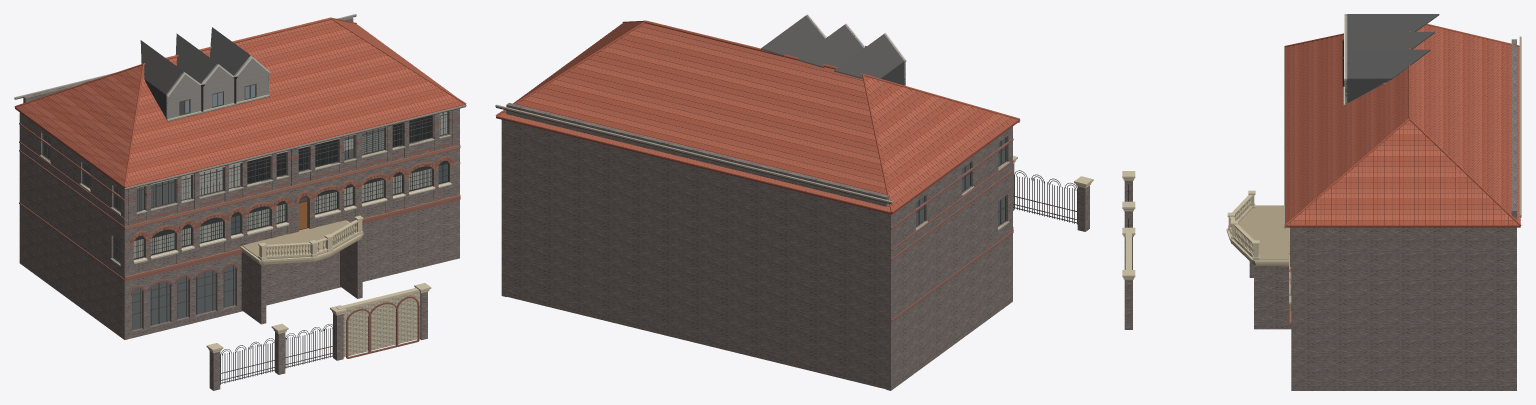
The model's file is jingan-daren-school-kangding-20-street-front-raw.glb.
3 renders of one model, left to right at view 1: azimuth 30°, elevation 25°; view 2: azimuth 150°, elevation 25°; view 3: azimuth 270°, elevation 25°, orthographic. The views are drawn at different scales.
Visible parts, largest first — view 1: 康定东路20号原大任小学校沿街立面; view 2: 康定东路20号原大任小学校沿街立面; view 3: 康定东路20号原大任小学校沿街立面.
Part boxes in pixels (x1=…): 康定东路20号原大任小学校沿街立面: x1=14, y1=14, x2=466, y2=390; 康定东路20号原大任小学校沿街立面: x1=495, y1=14, x2=1093, y2=390; 康定东路20号原大任小学校沿街立面: x1=1122, y1=14, x2=1521, y2=390.
Size of the model in its own units: 27.1 by 17.33 by 25.51.
Materials: 47 (1 with a texture image).
